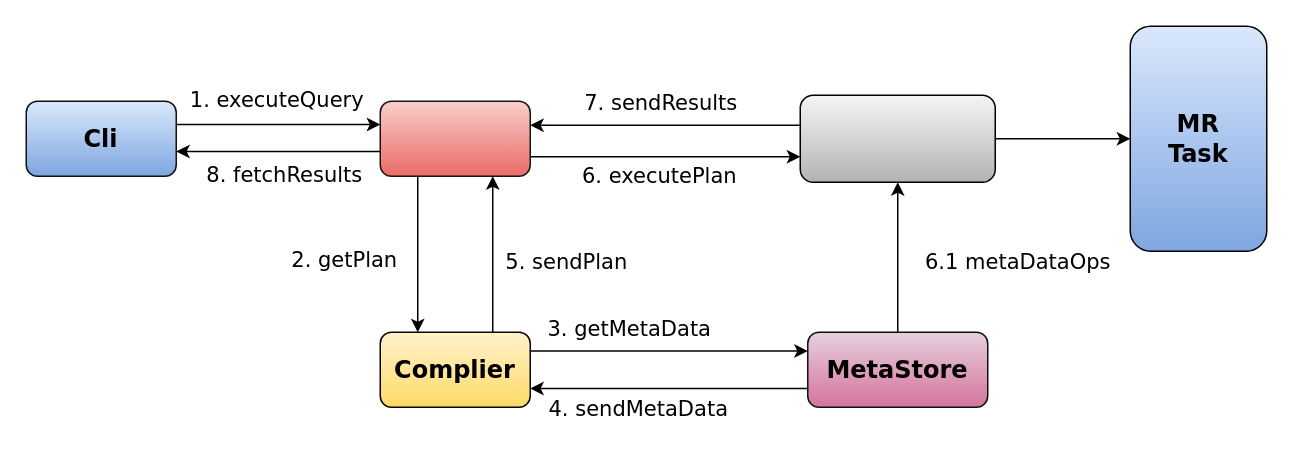
Some shapes in this 1293 by 458 pixel diagram are drawn without their labels. Each missing label, with the centre of its shape:
Driver: the point at 454,138
Execution Engine: the point at 897,138
